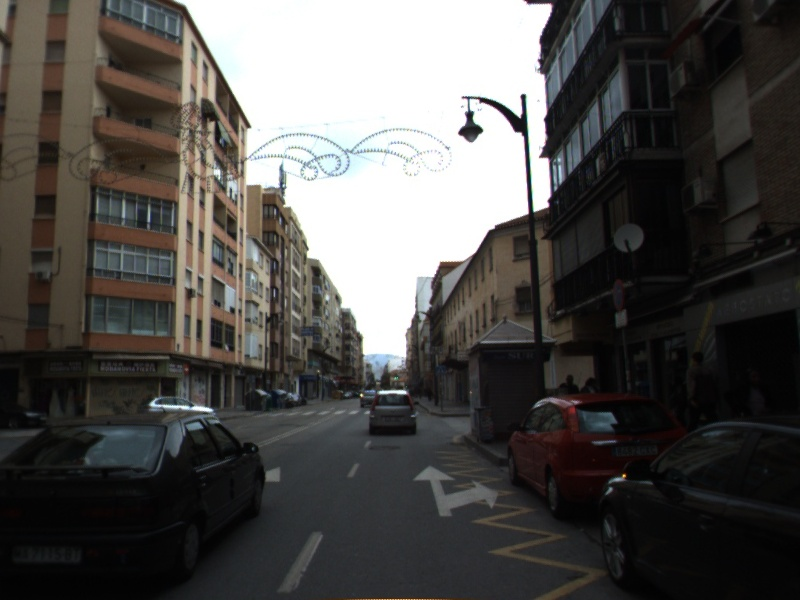STRAIGHT_RIGHT: (411, 463, 501, 518)
